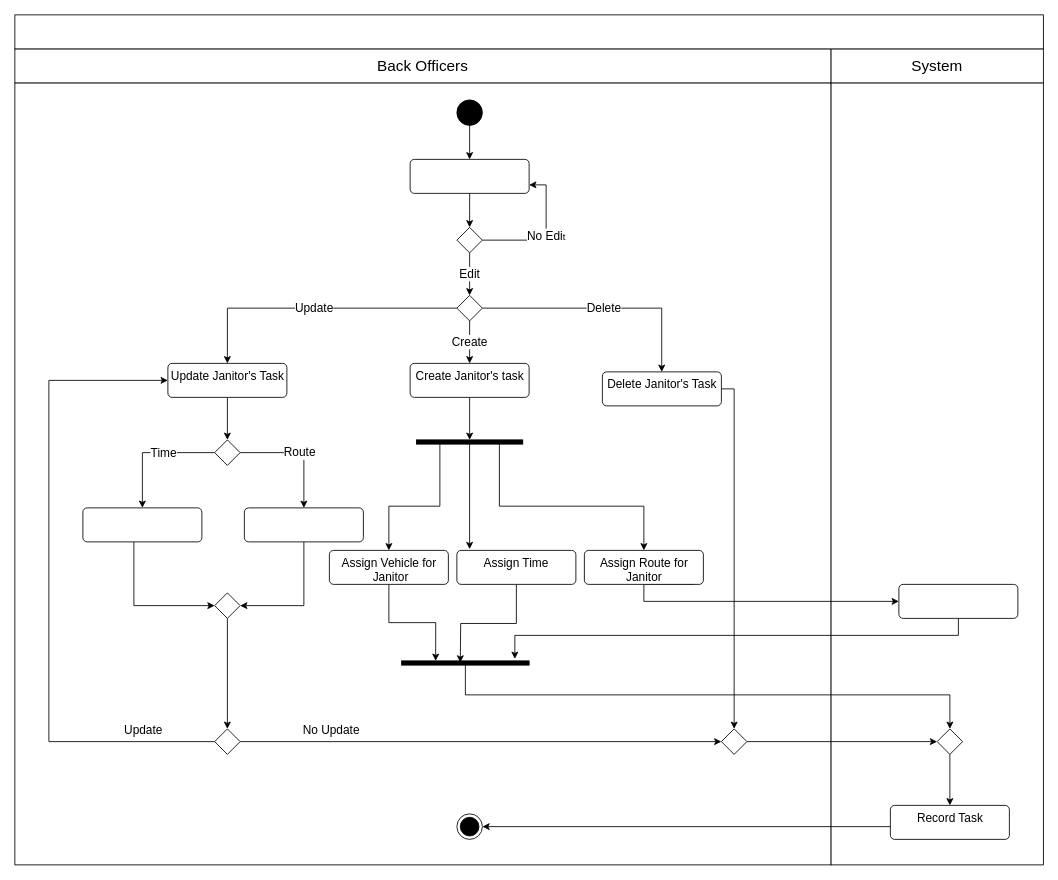
This 1058x880 diagram has some shape labels left out. Here are the shapes that lost their labels. From the top down, the box of each, then its label:
(14, 14, 1043, 49): Activity Diagram for Task Assignment of Janitors
(409, 159, 529, 193): View list Janitor's Task
(82, 507, 202, 542): Update Time
(244, 507, 363, 542): Update Route
(898, 584, 1018, 618): Optimize Route
